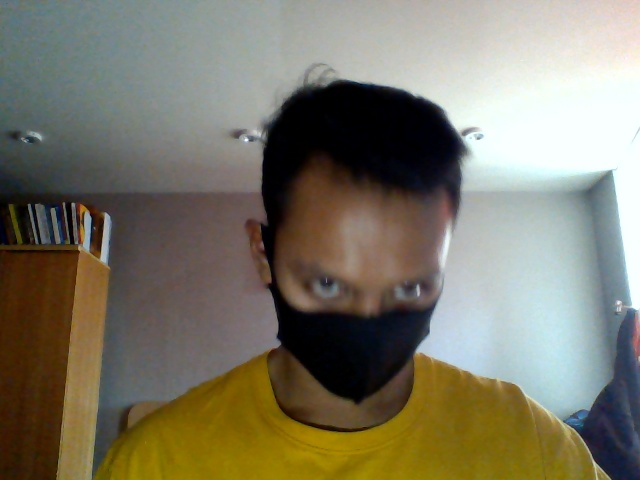mask: (274, 304, 429, 407)
